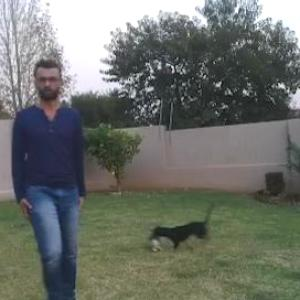follow: (14, 56, 90, 299)
